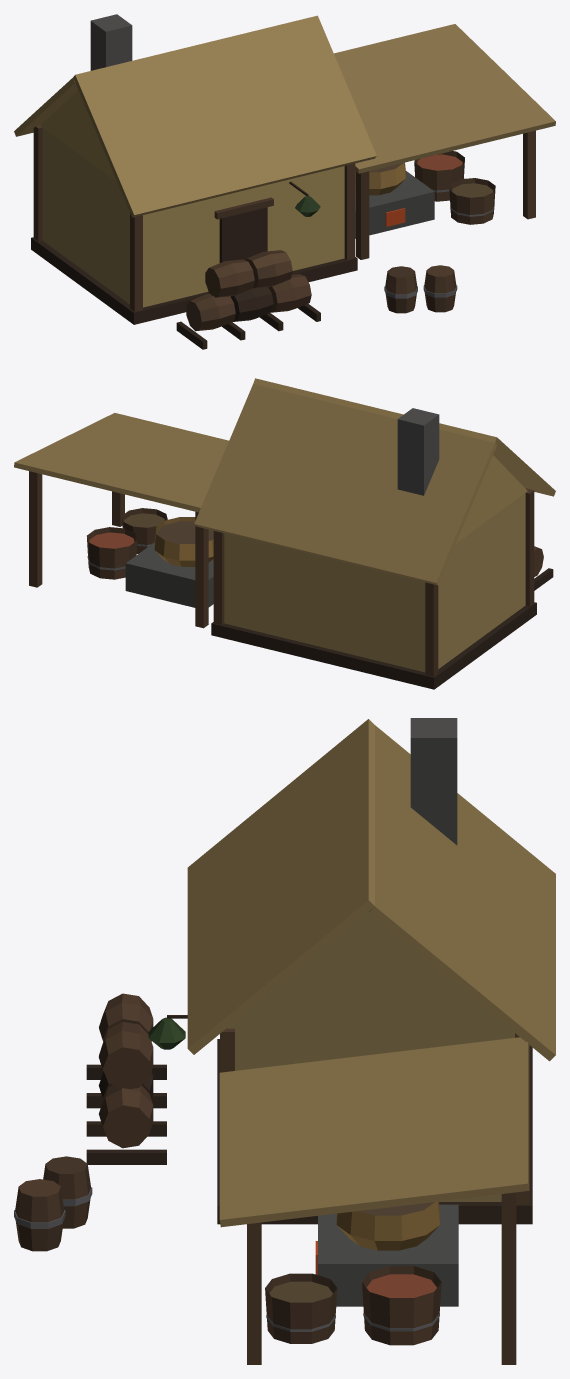
The model's file is walk_tidebound_brewery.glb.
3 views of the same model, one above another, from view 1: azimuth 30°, elevation 25°; view 2: azimuth 150°, elevation 25°; view 3: azimuth 270°, elevation 25° (orthographic). The views are drawn at different scales.
Parts seen in each view (by area): view 1: walk_tidebound_brewery_roof, walk_tidebound_brewery; view 2: walk_tidebound_brewery_roof, walk_tidebound_brewery; view 3: walk_tidebound_brewery_roof, walk_tidebound_brewery.
Part boxes in pixels (box(x1,y1,x2,y2)): walk_tidebound_brewery_roof: box(14, 14, 555, 217); walk_tidebound_brewery: box(31, 90, 535, 349); walk_tidebound_brewery_roof: box(14, 378, 555, 585); walk_tidebound_brewery: box(29, 455, 553, 689); walk_tidebound_brewery_roof: box(187, 718, 555, 1227); walk_tidebound_brewery: box(14, 912, 532, 1364).
Size of what is drawn, in the model's own units: 11.4 by 6.01 by 8.08.
Materials: 2 (2 with a texture image).
